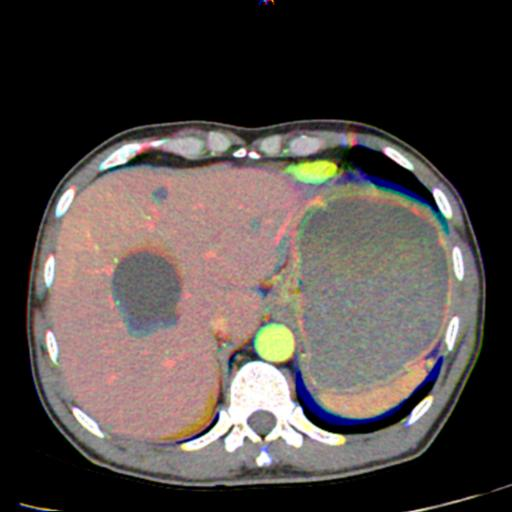Cyst: (111, 251, 180, 337)
